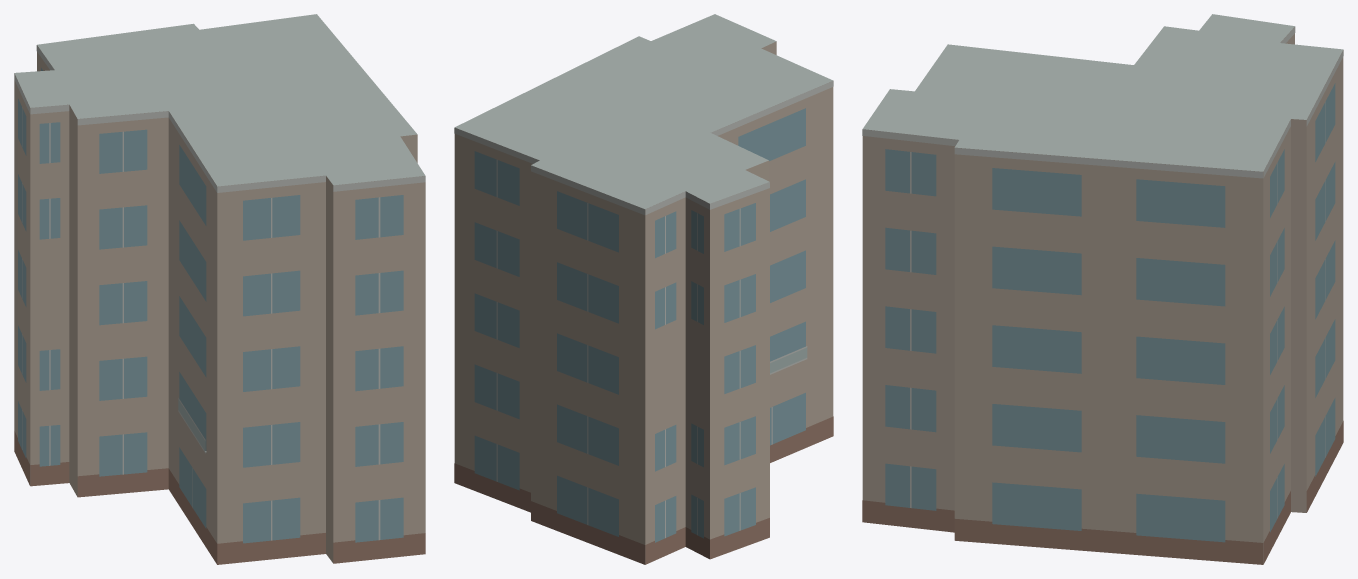
File: survey-upis-32768987.glb
3 renders of one model, left to right at view 1: azimuth 30°, elevation 25°; view 2: azimuth 150°, elevation 25°; view 3: azimuth 270°, elevation 25°, orthographic. The views are drawn at different scales.
Visible parts, largest first — view 1: survey-upis-32768987.tmp; view 2: survey-upis-32768987.tmp; view 3: survey-upis-32768987.tmp.
Boxes of the visible parts, bbox=[...] form: survey-upis-32768987.tmp: bbox=[14, 14, 425, 564]; survey-upis-32768987.tmp: bbox=[454, 14, 833, 564]; survey-upis-32768987.tmp: bbox=[862, 14, 1343, 564].
Bounding box in the file's own units: 12.23 × 14.2 × 15.76.
